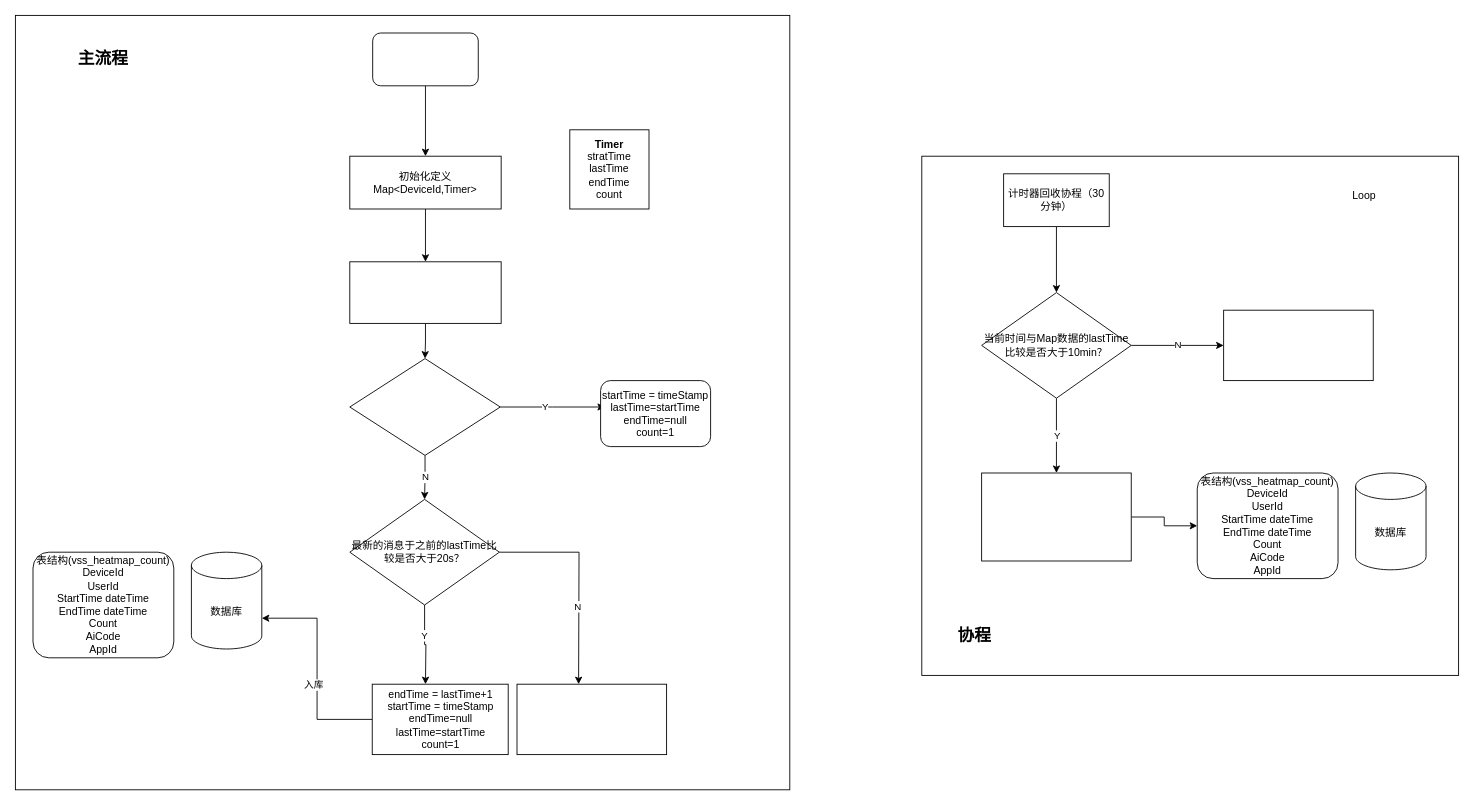
Some shapes in this 1474 by 805 pixel diagram are drawn without their labels. The shapes that lost their labels are listed below. From the top down, each one's box as (x1, y1, x2, y2) in pixels, then its label:
(372, 32, 478, 86): 开始
(349, 261, 501, 323): 等待接受kafka消息
(1223, 309, 1373, 381): do nothing
(349, 358, 500, 455): Map是否为空？
(981, 472, 1131, 561): endTime = lastTime+1 入库 Map删除该设备记录
(516, 683, 667, 755): lastTime = timeStamp count++
